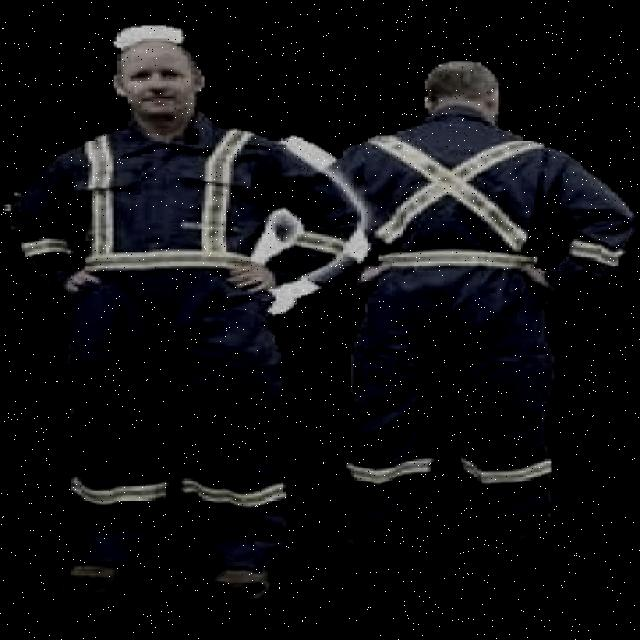Mask: (36, 118, 336, 556), (363, 120, 614, 502)
